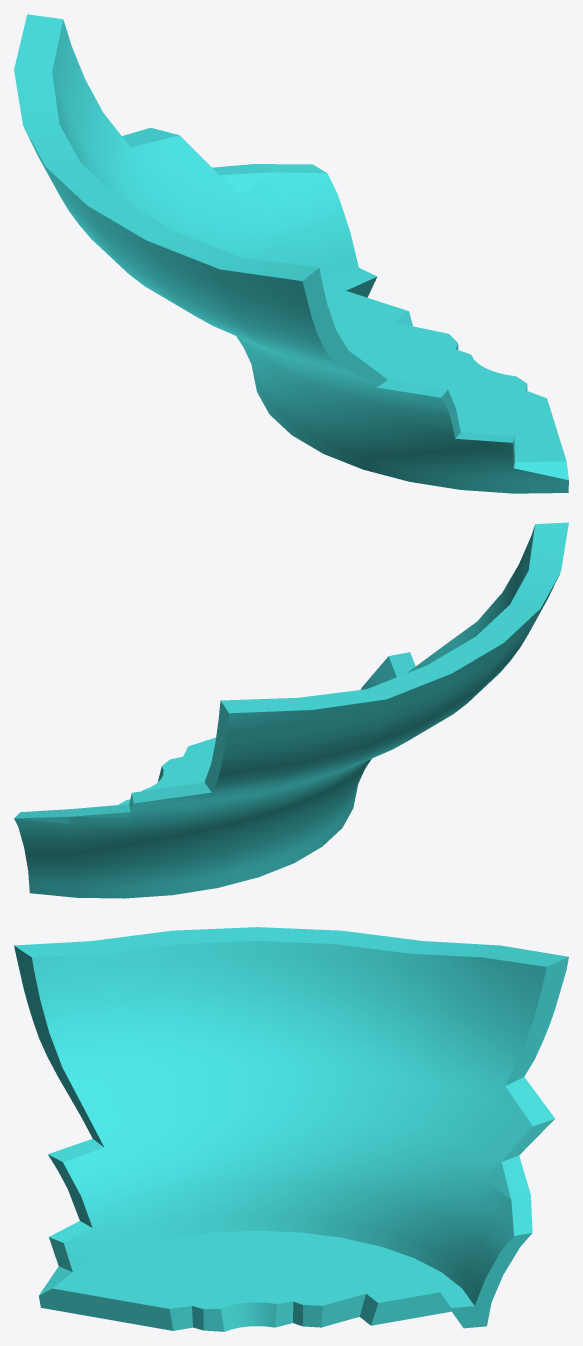
Rendered from VaseBroken0.fbx.
3 renders of one model, top to bottom at view 1: azimuth 30°, elevation 25°; view 2: azimuth 150°, elevation 25°; view 3: azimuth 270°, elevation 25°, orthographic. The views are drawn at different scales.
Parts seen in each view (by area): view 1: splinterBottom1; view 2: splinterBottom1; view 3: splinterBottom1.
Boxes of the visible parts, x1=… form: splinterBottom1: x1=14, y1=14, x2=568, y2=493; splinterBottom1: x1=14, y1=522, x2=568, y2=898; splinterBottom1: x1=14, y1=927, x2=568, y2=1331.
Size of the model in its own units: 17.1 by 12.12 by 23.7.
